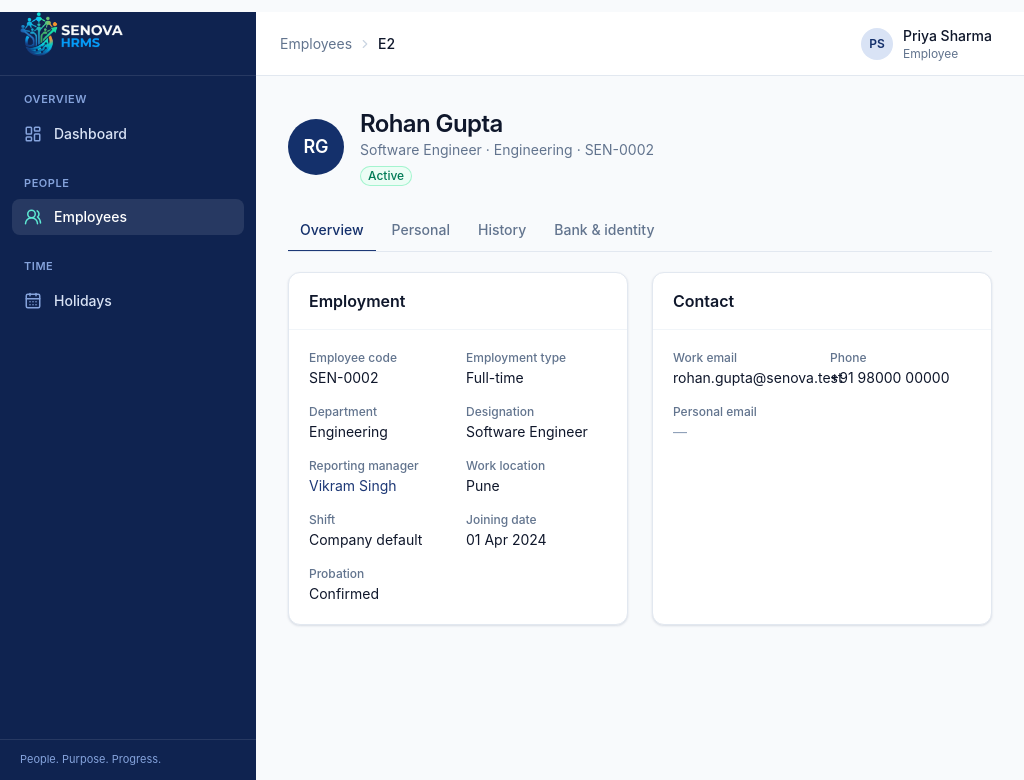
Test: employee profile › shows bank details masked until an authorized user reveals them
Click the tab "Bank & identity": click(604, 231) x1=542 y1=210 x2=666 y2=252
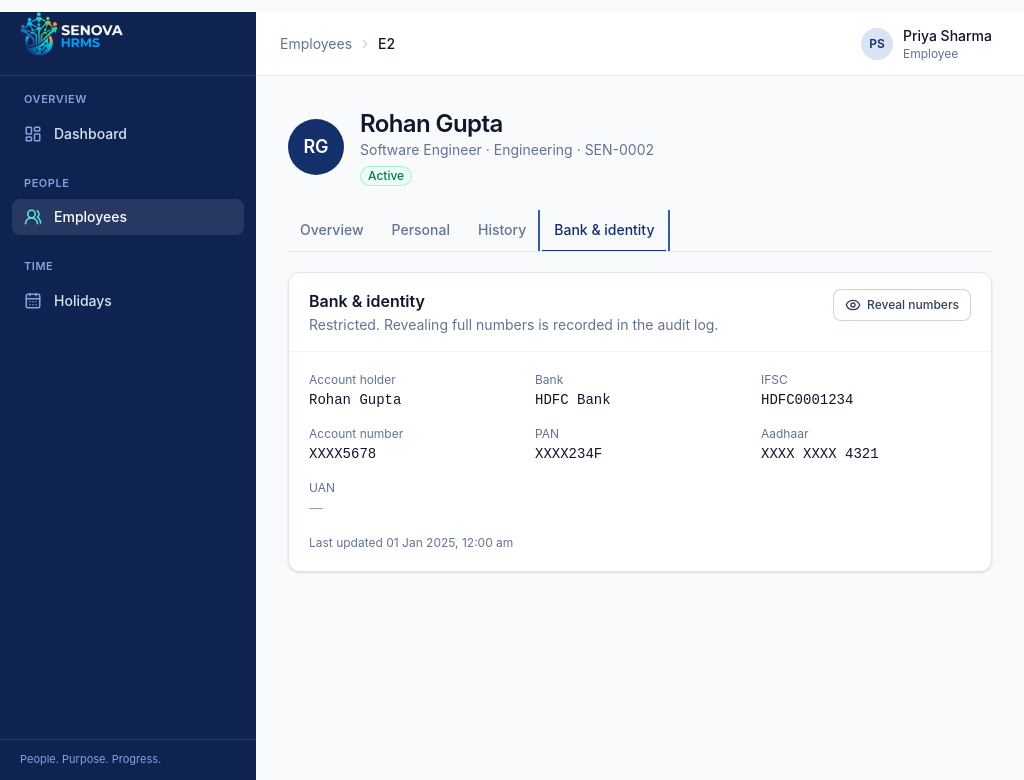
Expected: the text "50100012345678" is not shown
Expected: the text "XXXX5678" is shown, x1=309 y1=446 x2=376 y2=462
Click the button "Reveal numbers": click(902, 305) x1=833 y1=289 x2=971 y2=321
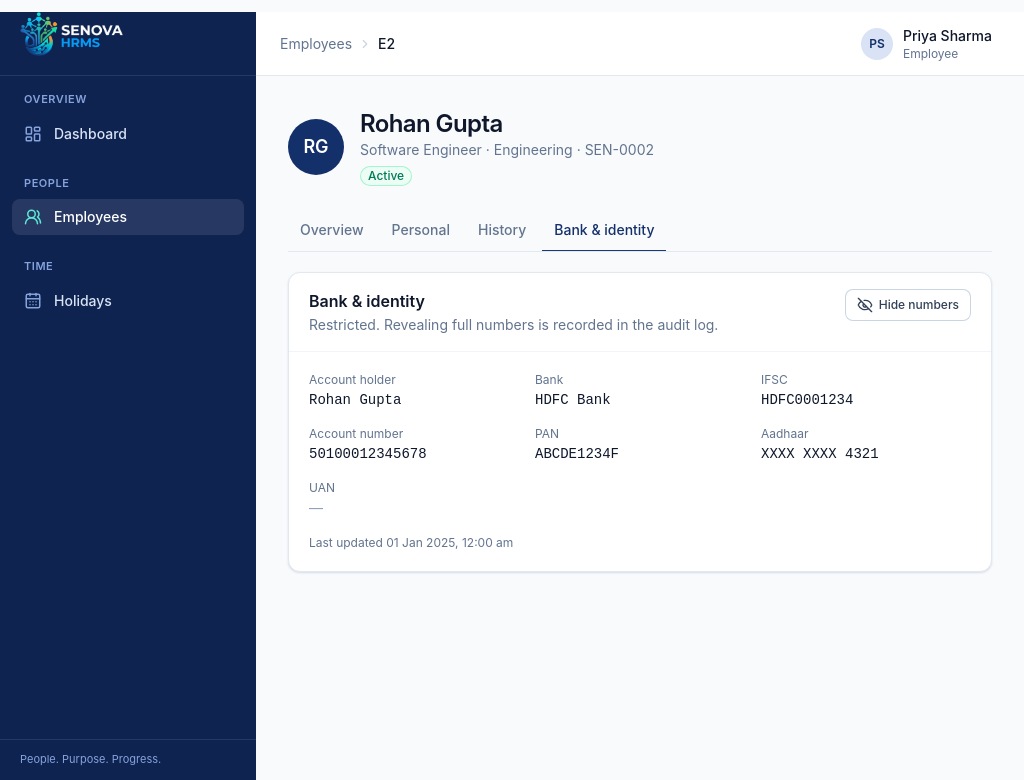
Expected: the text "50100012345678" is shown, x1=309 y1=446 x2=427 y2=462
